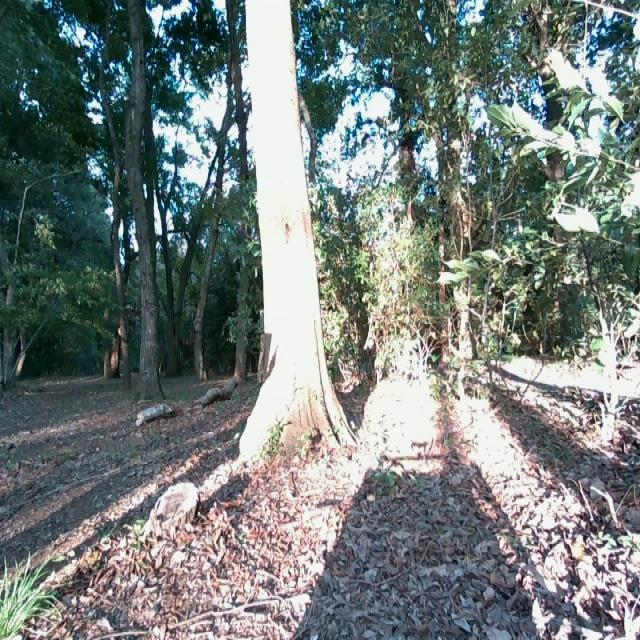bush: (476, 46, 640, 336), (309, 164, 446, 396)
tree: (240, 0, 340, 463), (124, 0, 170, 400), (433, 0, 472, 380), (193, 188, 217, 388)
